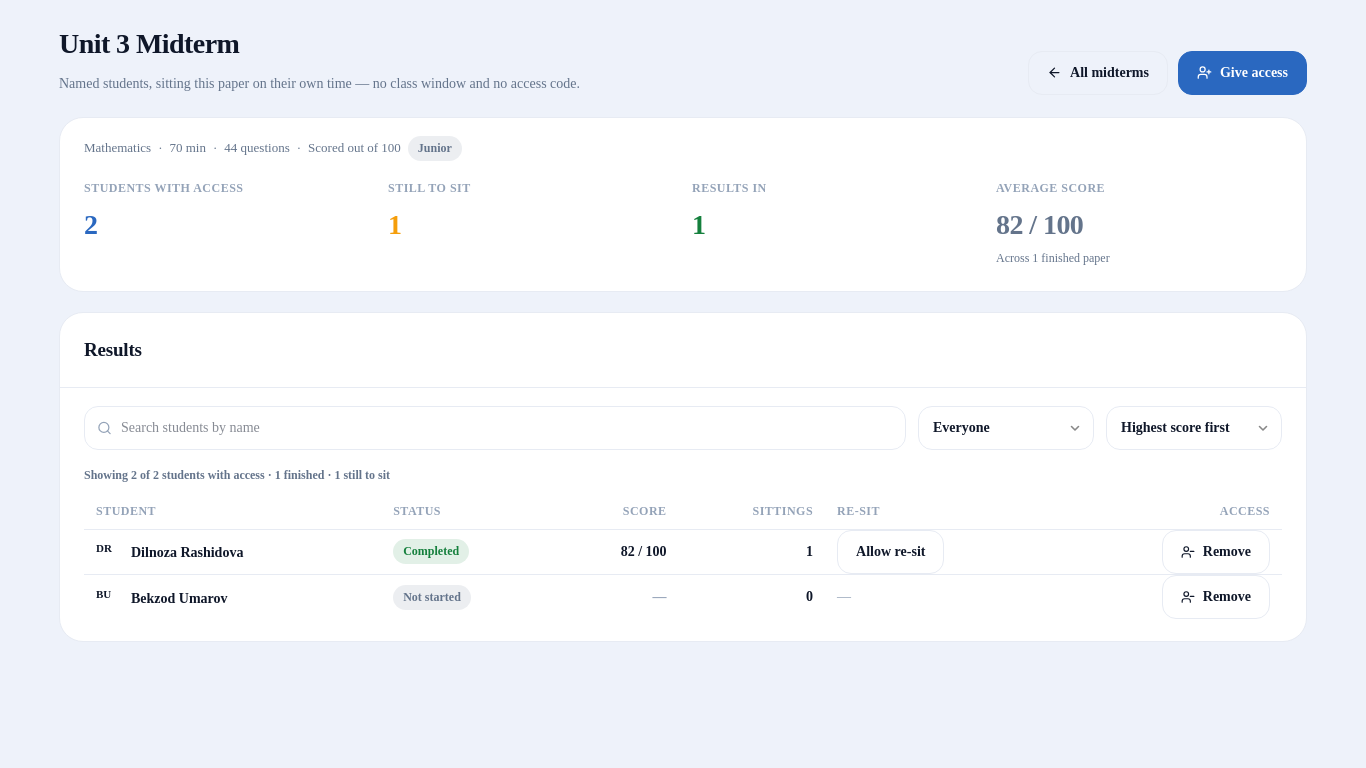
Scenario: one midterm — when its students come back › asks before removing access, and says what that student stands to lose
The image size is (1366, 768).
Click the button "Remove" in the row of "DR": (1216, 552) [1162,530,1270,574]
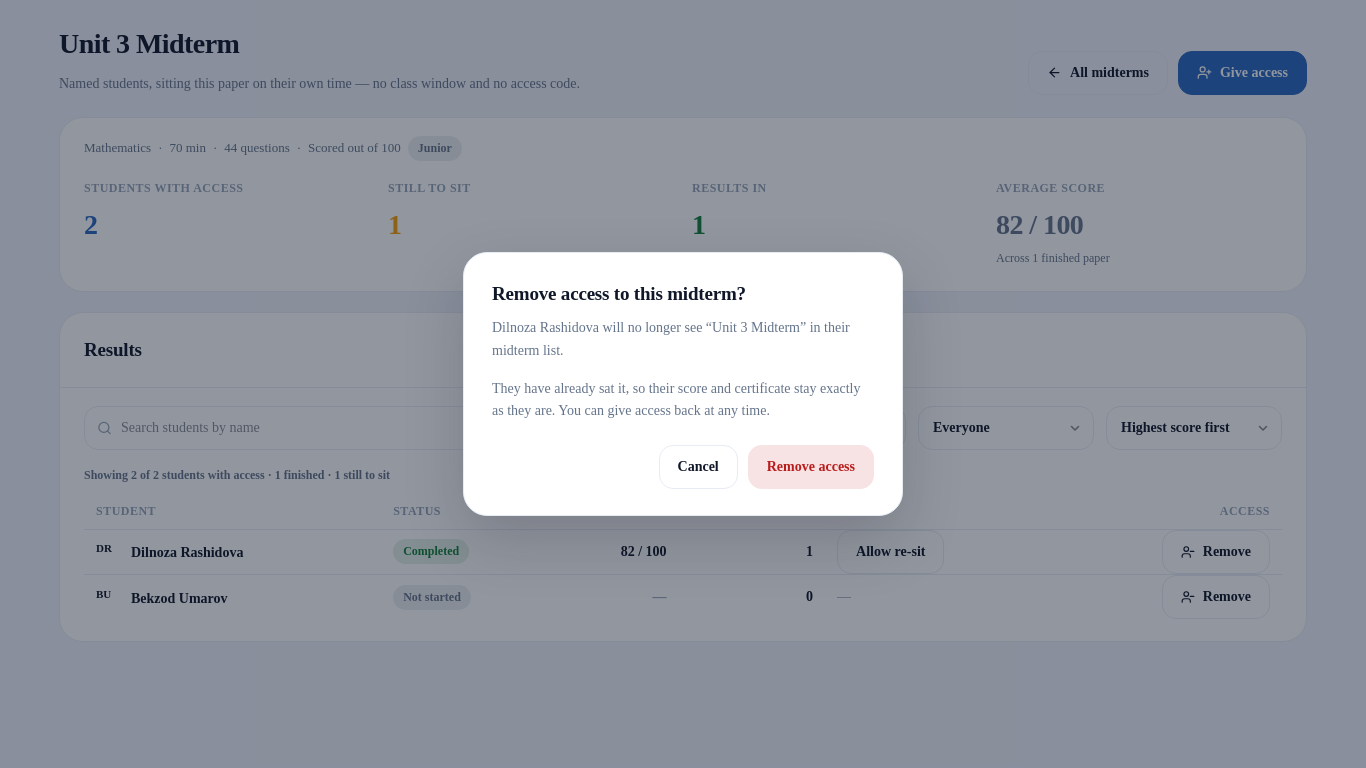
Expected: the text "Dilnoza Rashidova" is shown, [131,545,243,560]
Expected: the text "Remove access to this midterm?" is shown, [492,283,746,304]
Expected: the text "their score and certificate stay exactly as they are" is shown, [492,381,860,418]
